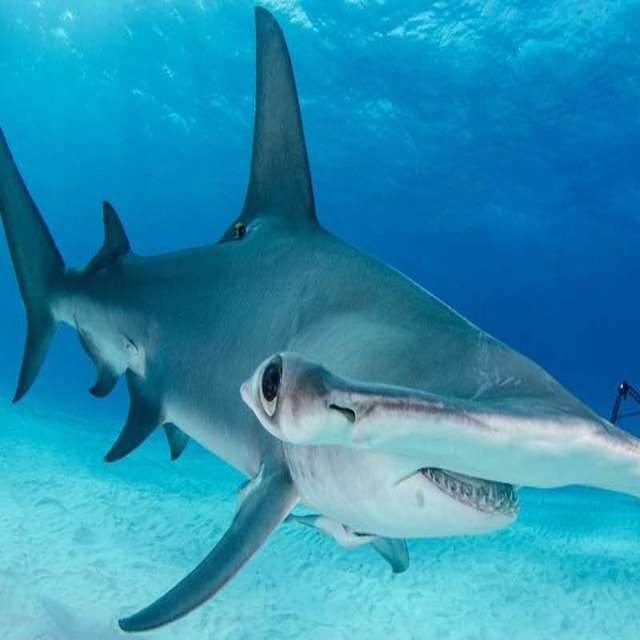hammerhead: (1, 10, 639, 590)
